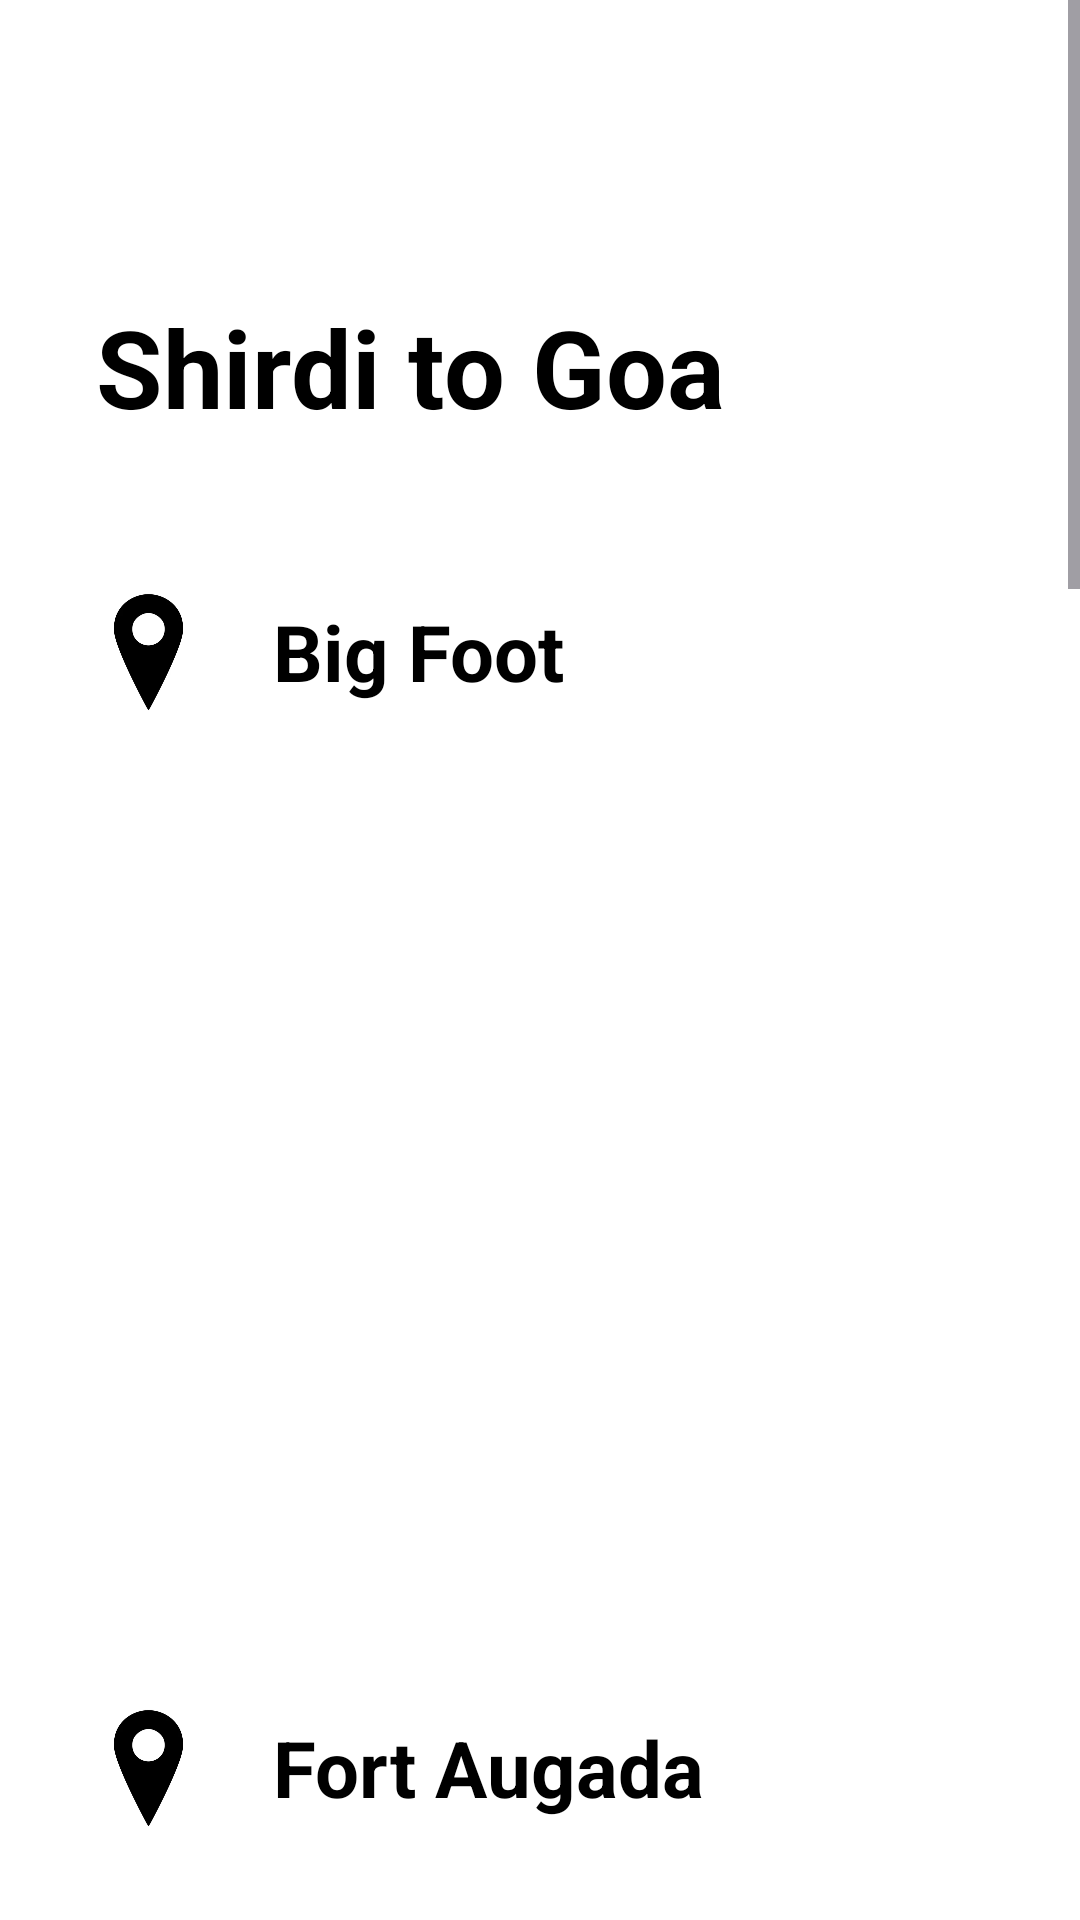

Screen size 1080x1920. Icon name, then its center in pixels as [x,y]:
location: [148,652], [148,1768]
